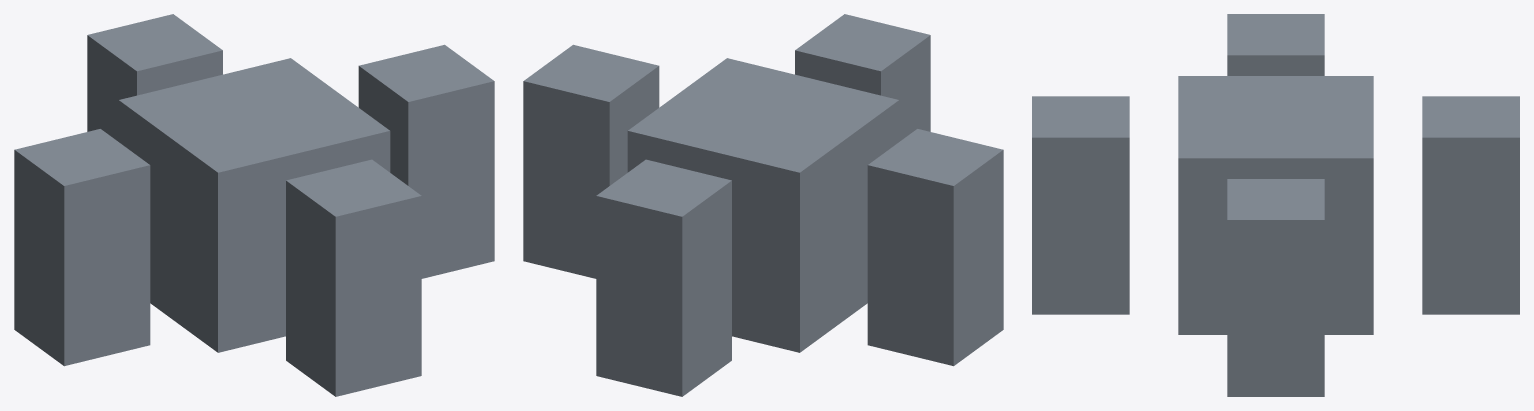
The model's file is item_misc.glb.
3 renders of one model, left to right at view 1: azimuth 30°, elevation 25°; view 2: azimuth 150°, elevation 25°; view 3: azimuth 270°, elevation 25°, orthographic.
Visible parts, largest first — view 1: Tooth mesh, Hub mesh; view 2: Tooth mesh, Hub mesh; view 3: Tooth mesh, Hub mesh.
Part boxes in pixels (<box>): Tooth mesh: <box>14,14,494,396</box>; Hub mesh: <box>118,58,390,352</box>; Tooth mesh: <box>523,14,1003,396</box>; Hub mesh: <box>627,58,899,352</box>; Tooth mesh: <box>1032,14,1519,396</box>; Hub mesh: <box>1178,76,1373,334</box>.
Size of the model in its own units: 10 by 4 by 10.
1 material, 1 textured.
